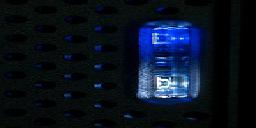LED: (140, 20, 197, 108)
